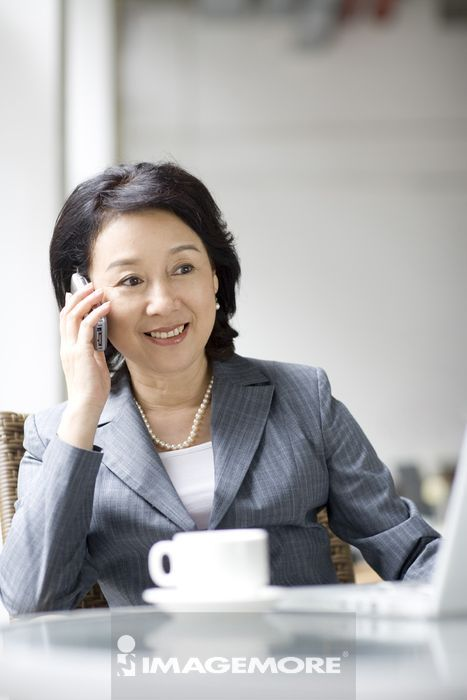phone: (70, 275, 110, 357)
talk: (52, 238, 212, 431)
